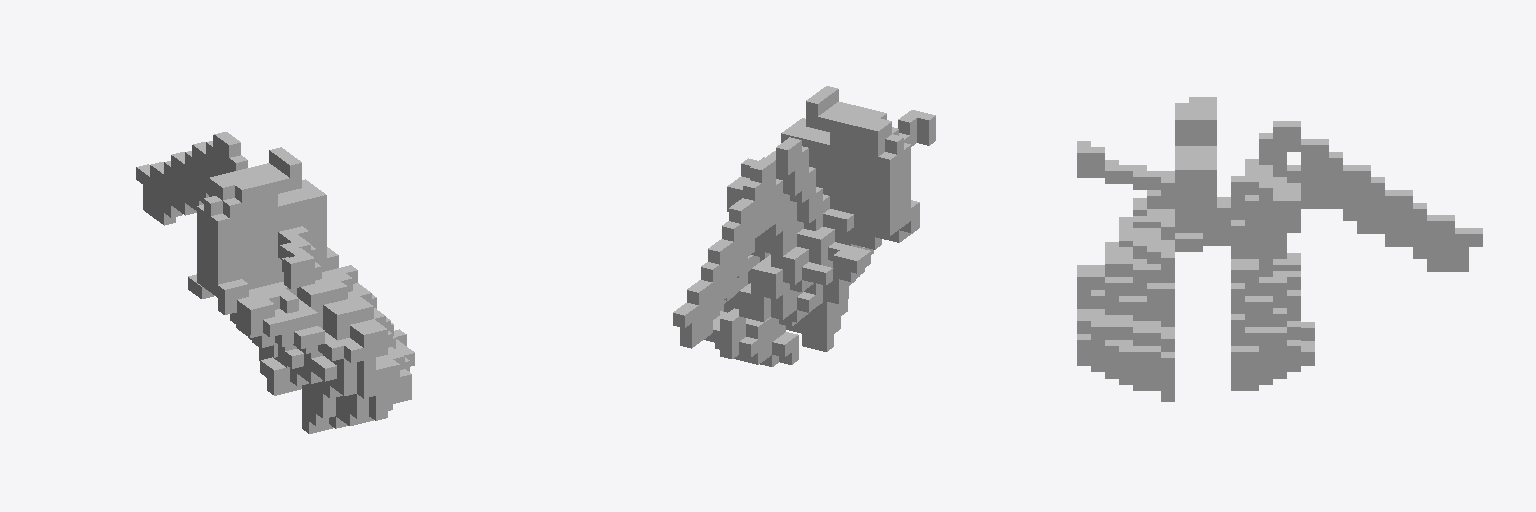
The model's file is gun_part3.obj.
The picture shows the model from 3 angles: view 1: azimuth 30°, elevation 25°; view 2: azimuth 150°, elevation 25°; view 3: azimuth 270°, elevation 25°; orthographic projection.
Parts seen in each view (by area): view 1: Cube; view 2: Cube; view 3: Cube.
Part boxes in pixels (left/top/right/bottom): Cube: left=136, top=132, right=414, bottom=433; Cube: left=673, top=86, right=935, bottom=366; Cube: left=1077, top=97, right=1482, bottom=401.
Bounding box in the file's own units: 1.2 × 1.68 × 2.32.